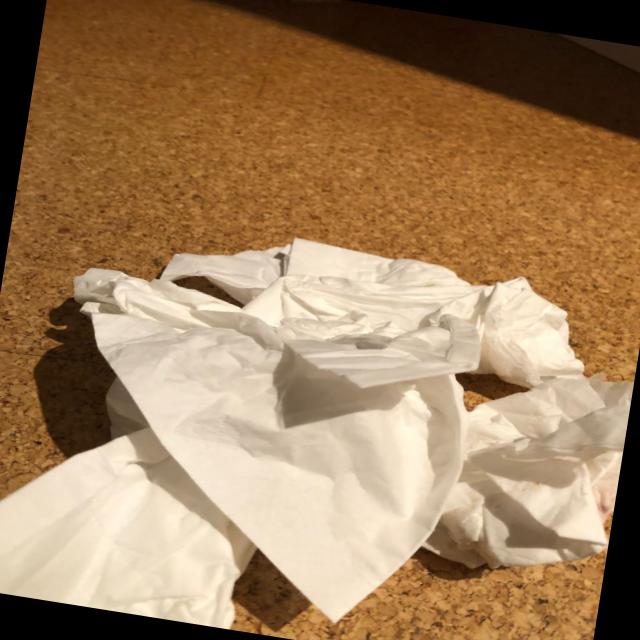organic waste: (39, 263, 475, 640), (148, 218, 588, 420), (0, 404, 278, 633), (420, 345, 636, 584)
